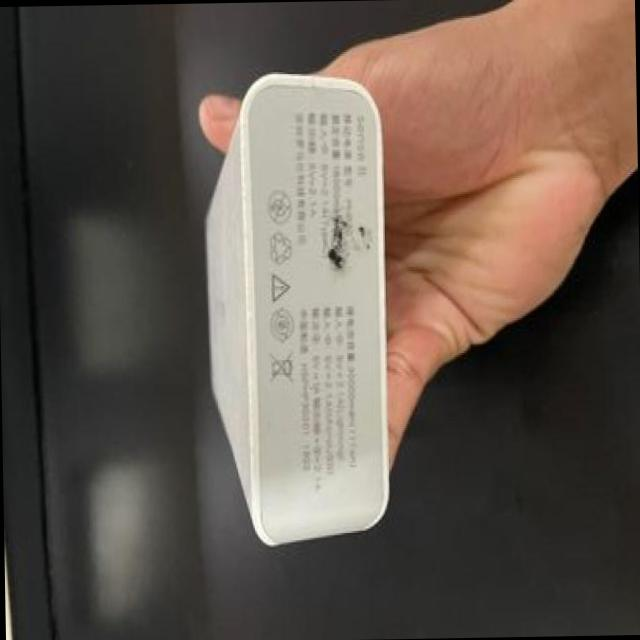power_bank: (196, 57, 400, 560)
